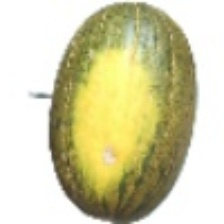honeydew: (14, 27, 209, 167)
